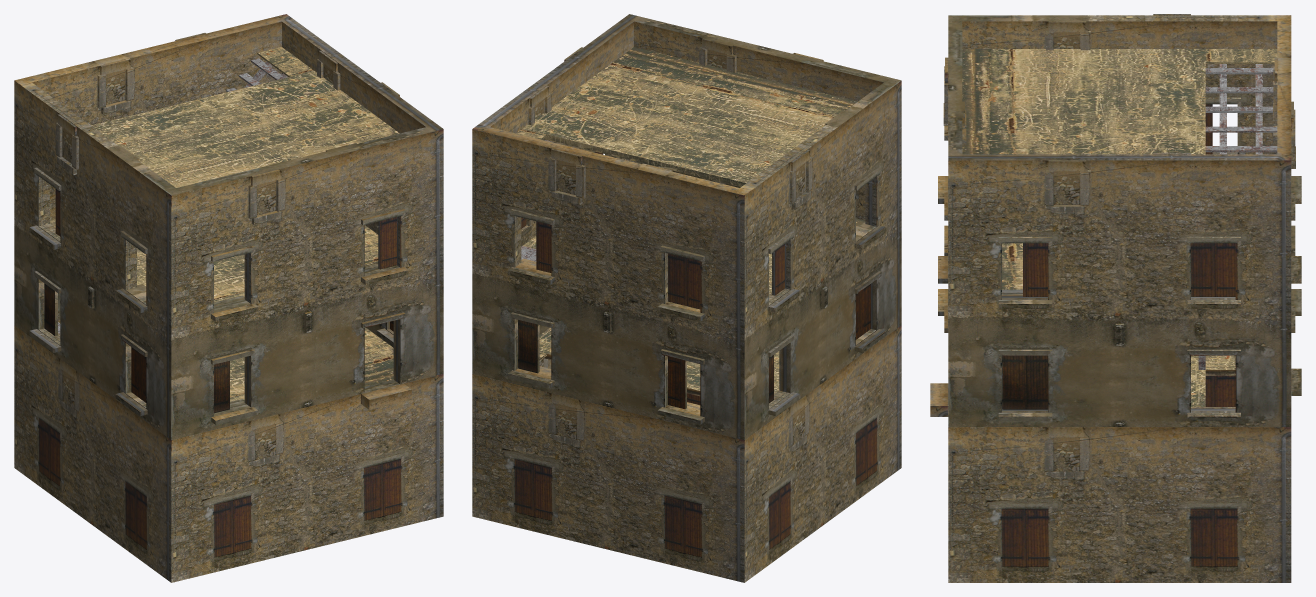
File: BagBuilding18High.fbx
The picture shows the model from 3 angles, left to right: view 1: azimuth 30°, elevation 25°; view 2: azimuth 150°, elevation 25°; view 3: azimuth 270°, elevation 25°; orthographic projection. The views are drawn at different scales.
Parts seen in each view (by area): view 1: mainA300, floorsA300, stairsA300; view 2: mainA300, floorsA300; view 3: mainA300, floorsA300, stairsA300.
Part boxes in pixels (<box>): mainA300: <box>14,14,443,582</box>; floorsA300: <box>50,47,399,401</box>; stairsA300: <box>58,58,288,334</box>; mainA300: <box>472,14,901,582</box>; floorsA300: <box>516,47,865,396</box>; mainA300: <box>930,14,1301,582</box>; floorsA300: <box>962,49,1277,406</box>; stairsA300: <box>1198,64,1277,369</box>.
Bounding box in the file's own units: 17.75 × 22.81 × 18.16.
